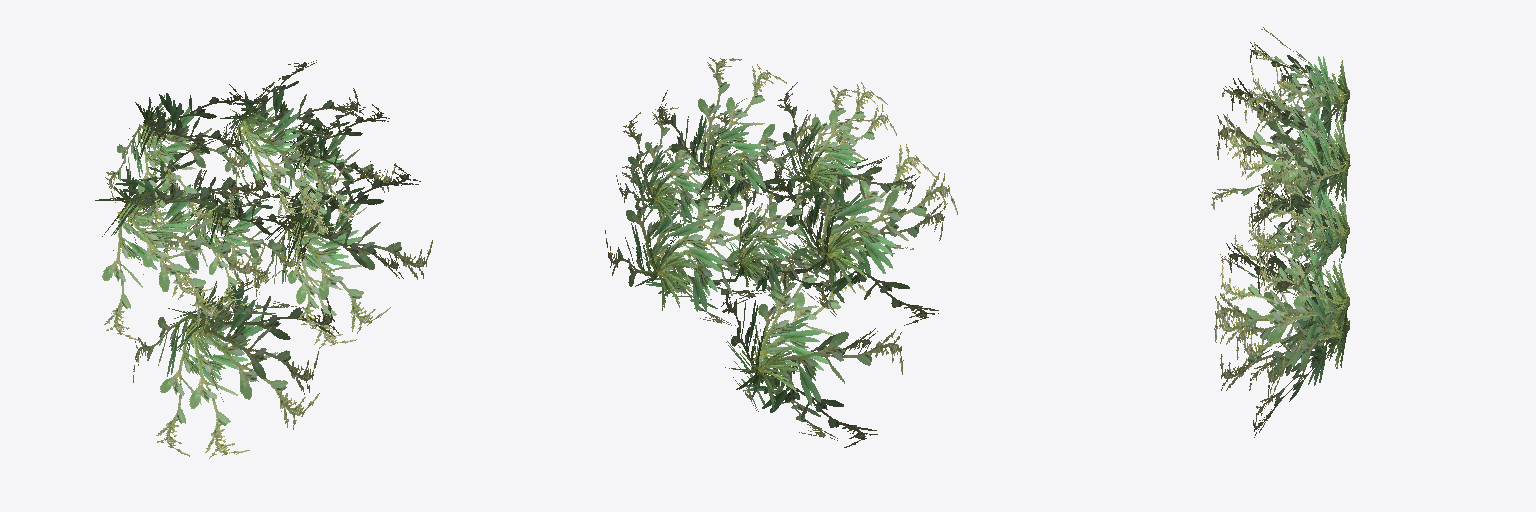
The picture shows the model from 3 angles: view 1: azimuth 30°, elevation 25°; view 2: azimuth 150°, elevation 25°; view 3: azimuth 270°, elevation 25°; orthographic projection.
Visible parts, largest first — view 1: Group; view 2: Group; view 3: Group.
Part boxes in pixels (bbox=[...]): Group: bbox=[95, 60, 432, 458]; Group: bbox=[605, 57, 957, 447]; Group: bbox=[1211, 27, 1350, 437].
Size of the model in its own units: 2.65 by 2.82 by 0.9635.
1 materials, 1 textured.